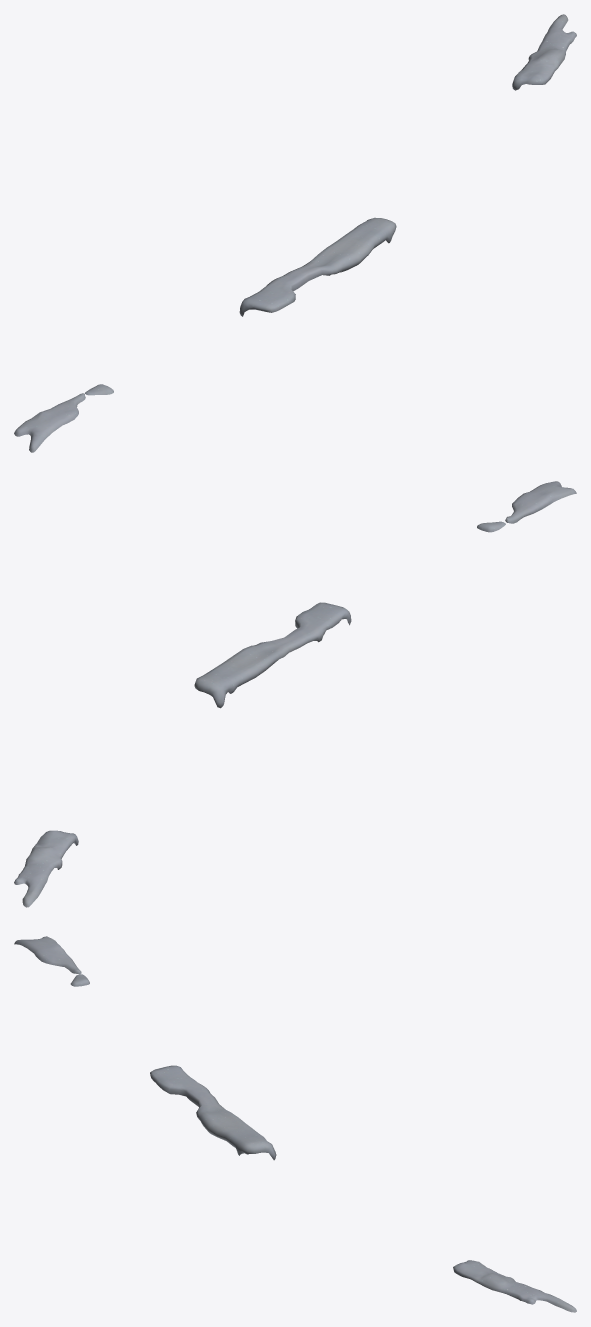
The model's file is pref_sm_beach_winter_snow16_lv3.fbx.
The picture shows the model from 3 angles, top to bottom: view 1: azimuth 30°, elevation 25°; view 2: azimuth 210°, elevation 25°; view 3: azimuth 270°, elevation 25°; orthographic projection. The views are drawn at different scales.
Parts seen in each view (by area): view 1: pref_sm_beach_winter_snow16_lv3; view 2: pref_sm_beach_winter_snow16_lv3; view 3: pref_sm_beach_winter_snow16_lv3.
Boxes of the visible parts, <box> form: pref_sm_beach_winter_snow16_lv3: <box>14,14,576,452</box>; pref_sm_beach_winter_snow16_lv3: <box>14,481,576,907</box>; pref_sm_beach_winter_snow16_lv3: <box>14,936,576,1312</box>.
Size of the model in its own units: 25.59 by 0.5999 by 16.23.
